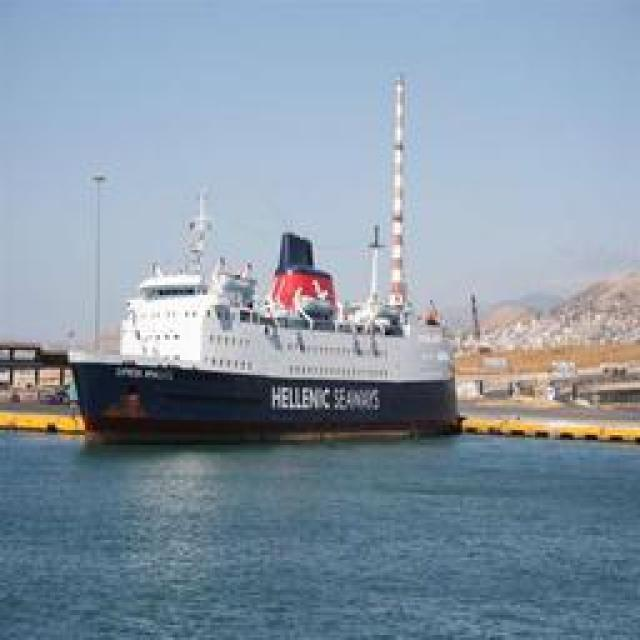CIV_Ship: (65, 168, 463, 448)
